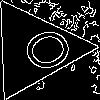O: (9, 24, 77, 81)
